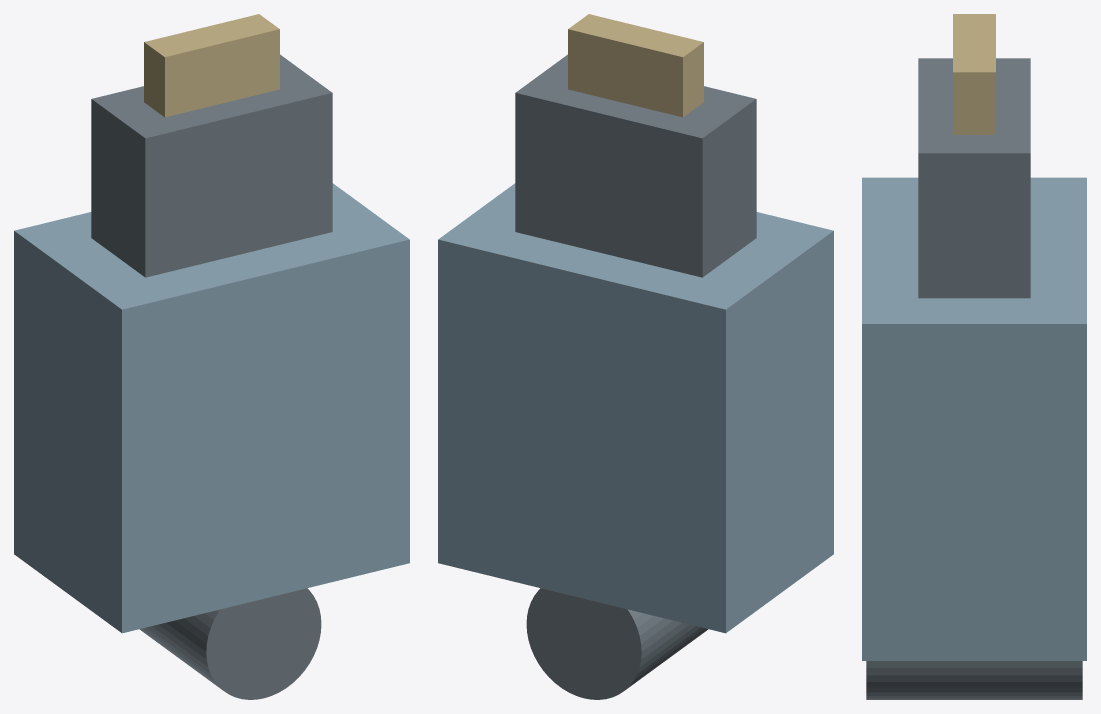
File: plug.glb
The picture shows the model from 3 angles, left to right: view 1: azimuth 30°, elevation 25°; view 2: azimuth 150°, elevation 25°; view 3: azimuth 270°, elevation 25°; orthographic projection. The views are drawn at different scales.
Parts seen in each view (by area): view 1: world; view 2: world; view 3: world.
Boxes of the visible parts, bbox=[...] form: world: bbox=[14, 14, 409, 699]; world: bbox=[438, 14, 833, 699]; world: bbox=[862, 14, 1086, 699].
Size of the model in its own units: 0.04 by 0.083 by 0.026.
